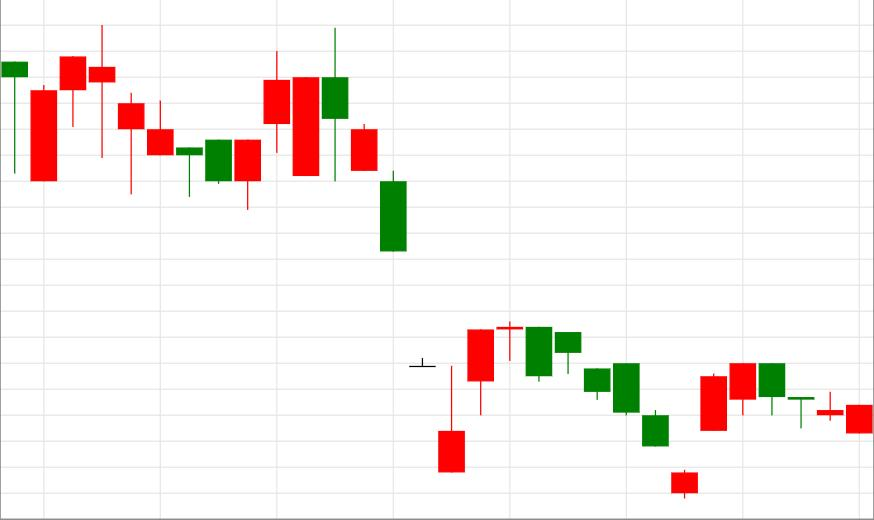inverse_hammer_rise: (322, 28, 465, 472)
